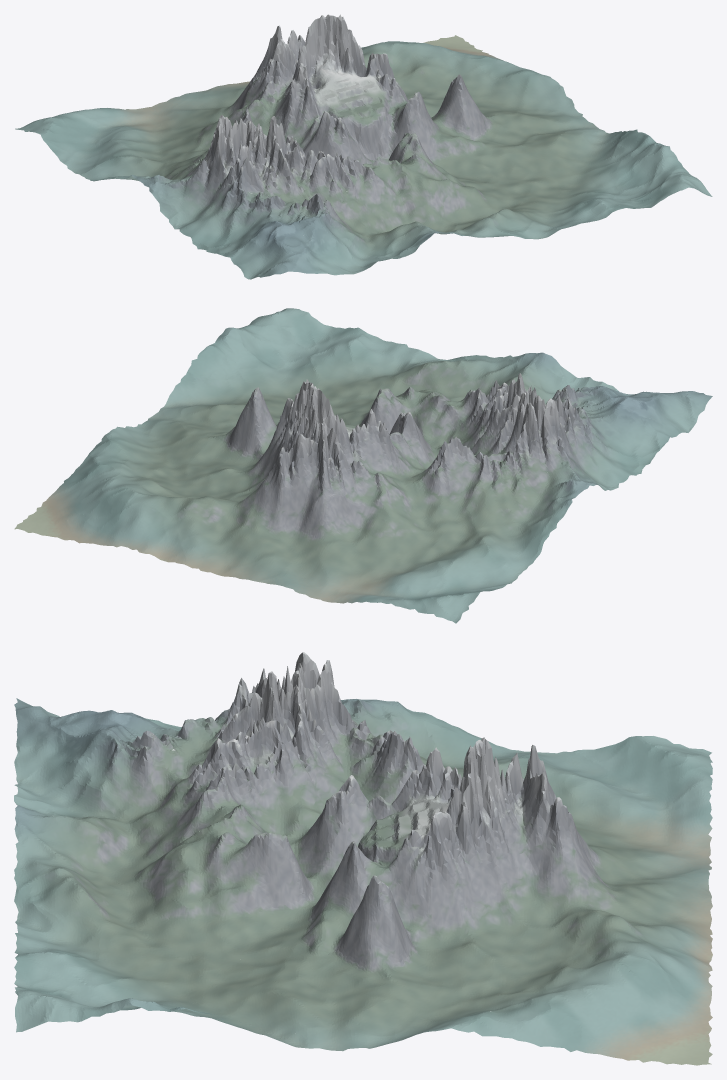
File: sect_gujian_ground.glb
The picture shows the model from 3 angles, top to bottom: view 1: azimuth 30°, elevation 25°; view 2: azimuth 150°, elevation 25°; view 3: azimuth 270°, elevation 25°; orthographic projection. The views are drawn at different scales.
Visible parts, largest first — view 1: ground; view 2: ground; view 3: ground.
Part boxes in pixels (left/top/right/bottom): ground: left=15, top=14, right=712, bottom=279; ground: left=14, top=308, right=712, bottom=623; ground: left=14, top=652, right=712, bottom=1065.
Size of the model in its own units: 3785 by 1099 by 3785.
